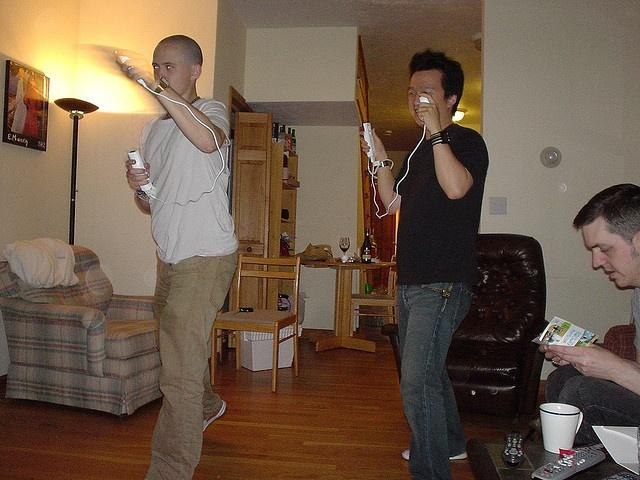Kursi: (209, 254, 302, 391)
